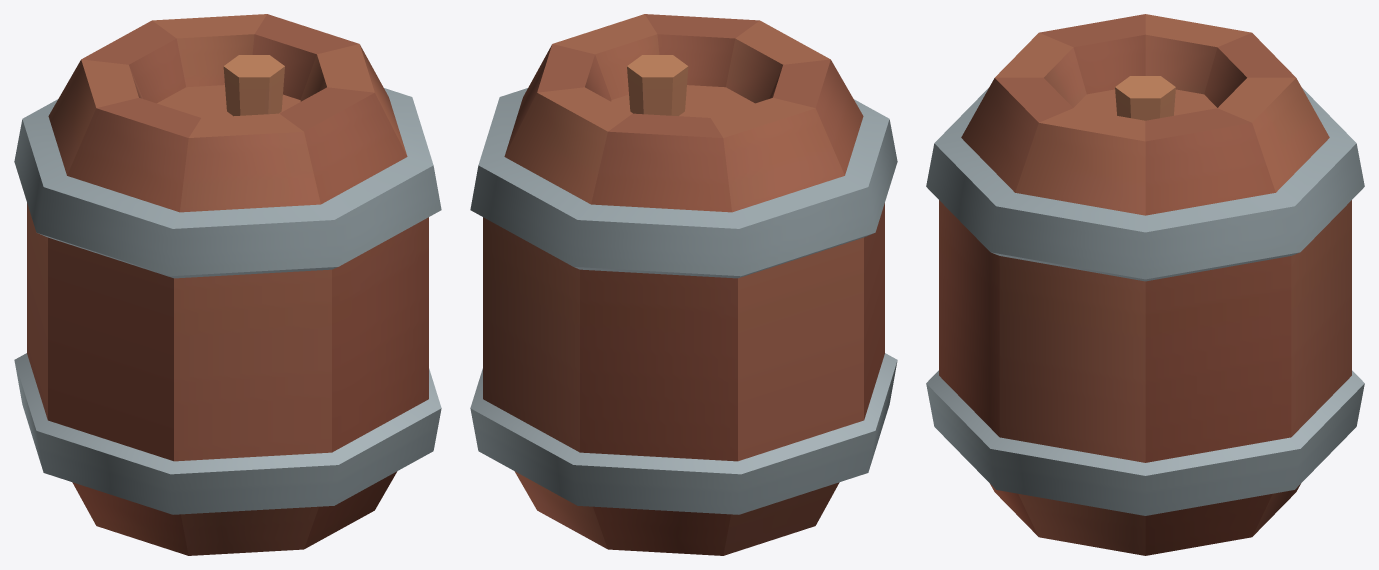
File: barrel.glb
The picture shows the model from 3 angles, left to right: view 1: azimuth 30°, elevation 25°; view 2: azimuth 150°, elevation 25°; view 3: azimuth 270°, elevation 25°; orthographic projection.
Parts seen in each view (by area): view 1: barrel; view 2: barrel; view 3: barrel.
Boxes of the visible parts, <box> form: barrel: <box>14,14,441,555</box>; barrel: <box>470,14,897,555</box>; barrel: <box>926,14,1364,555</box>.
Bounding box in the file's own units: 0.2015 × 0.2117 × 0.2015.
1 material, 1 textured.
